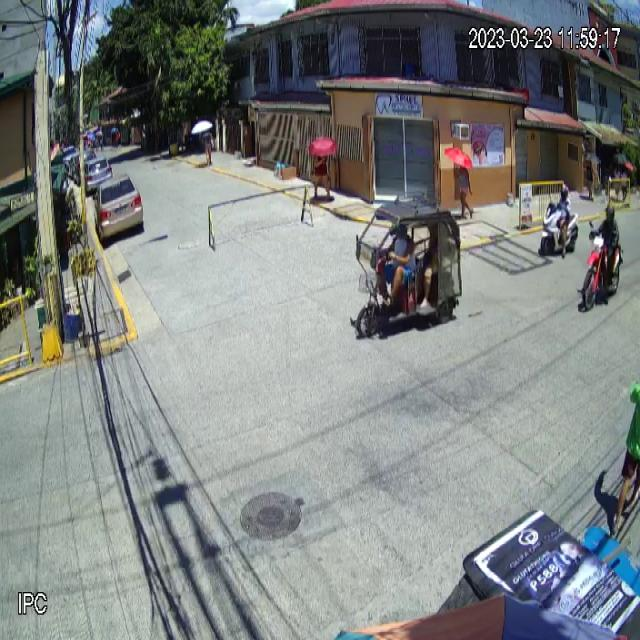Car: (94, 173, 144, 244)
Motorcycle: (579, 220, 625, 312), (540, 198, 579, 258)
